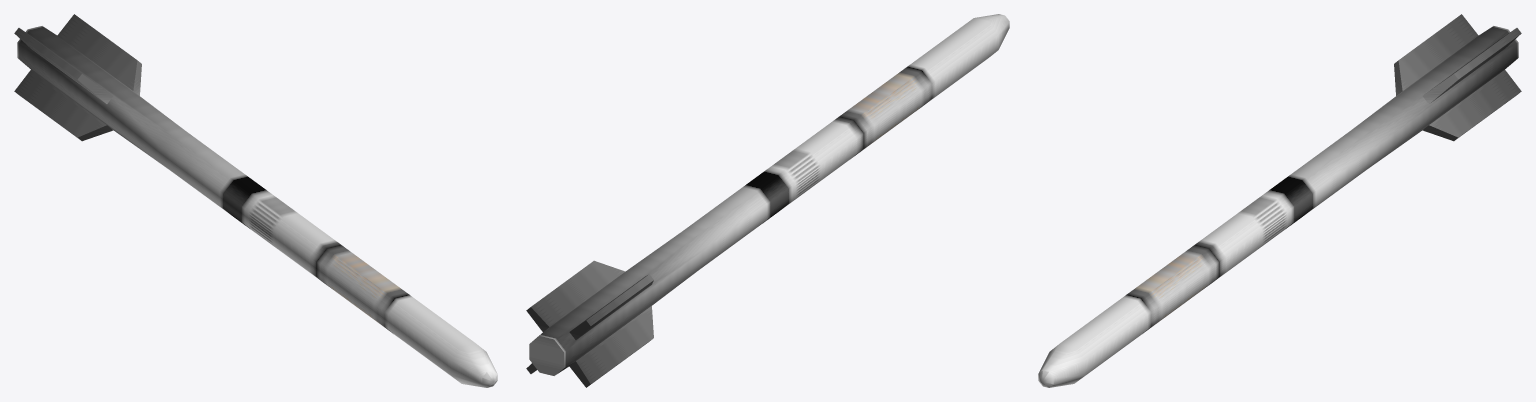
Rendered from archer.fbx.
3 views of the same model, side by side, from view 1: azimuth 30°, elevation 25°; view 2: azimuth 150°, elevation 25°; view 3: azimuth 330°, elevation 25° (orthographic).
Visible parts, largest first — view 1: Javelin; view 2: Javelin; view 3: Javelin.
Part boxes in pixels (x1=…): Javelin: x1=14, y1=14, x2=497, y2=387; Javelin: x1=526, y1=14, x2=1009, y2=387; Javelin: x1=1038, y1=14, x2=1521, y2=387.
Size of the model in its own units: 13.57 by 13.57 by 167.
